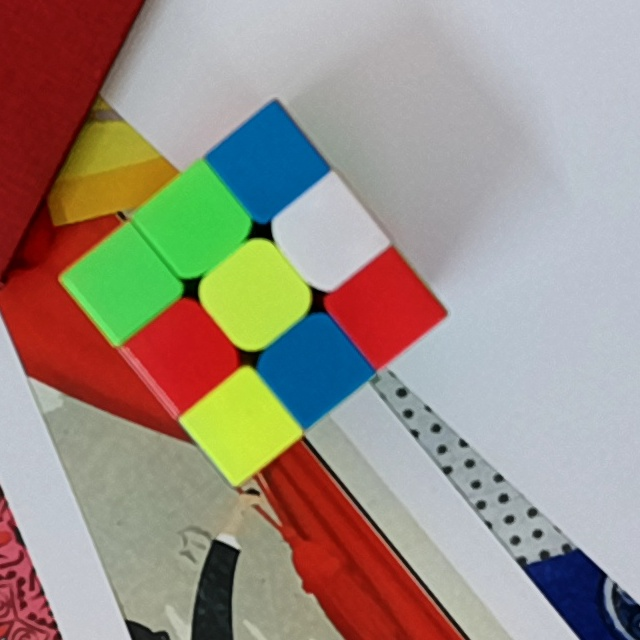tile: (297, 201, 360, 270), (163, 191, 228, 253), (224, 263, 286, 327), (235, 133, 298, 195), (89, 253, 151, 315), (150, 325, 212, 386), (284, 334, 343, 398), (354, 279, 419, 336), (211, 396, 271, 454)
